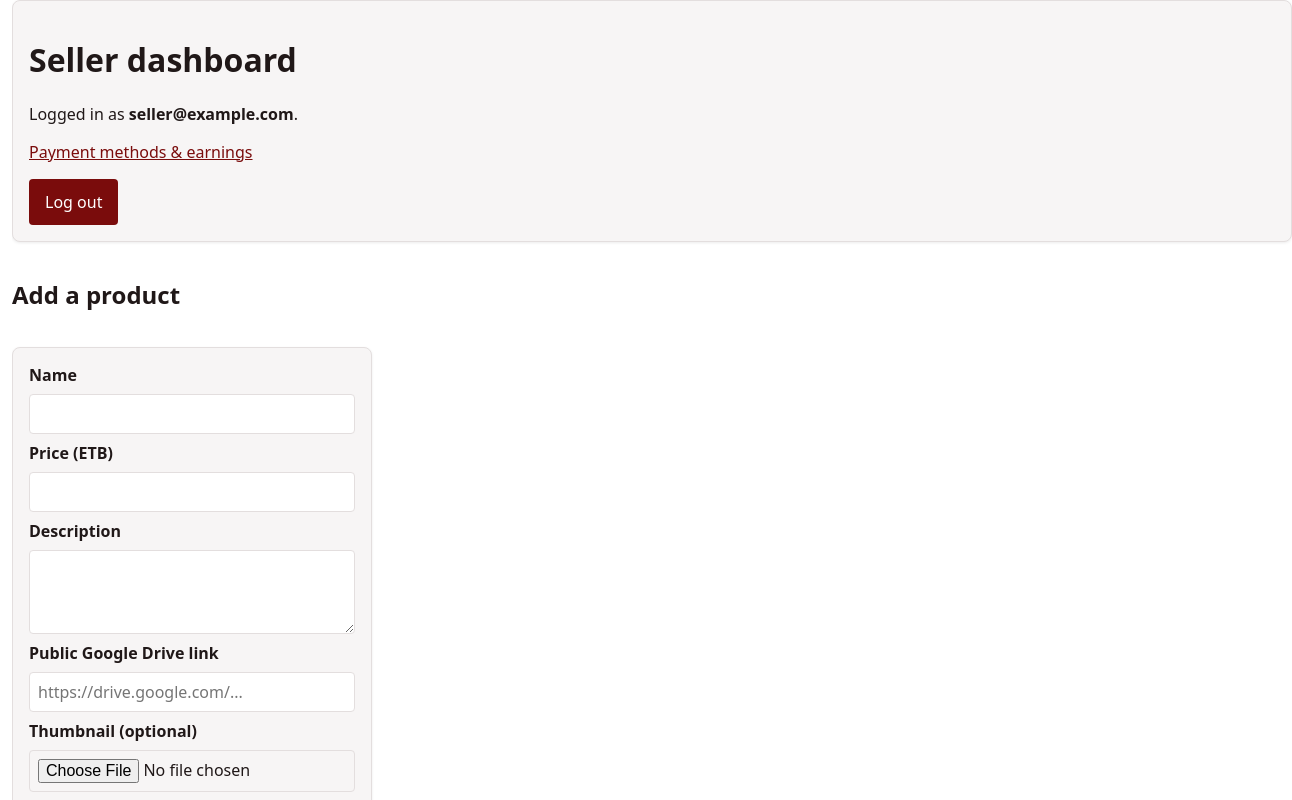
Test case: SellerHome › logs out and returns to the logged-out view
Click the button "Log out" at x=74, y=202, box [29,179,118,225]
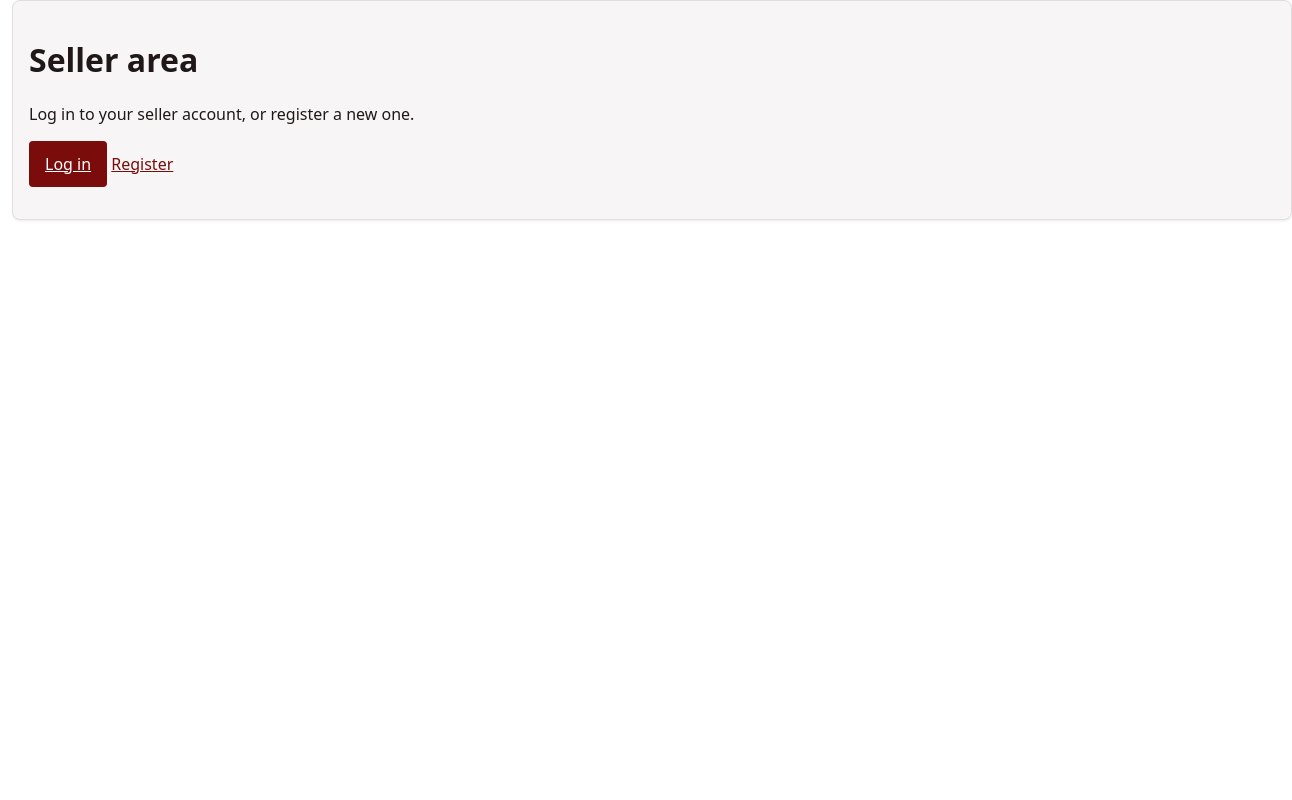
Now the heading "Seller area" is shown, box [29,38,198,81]
